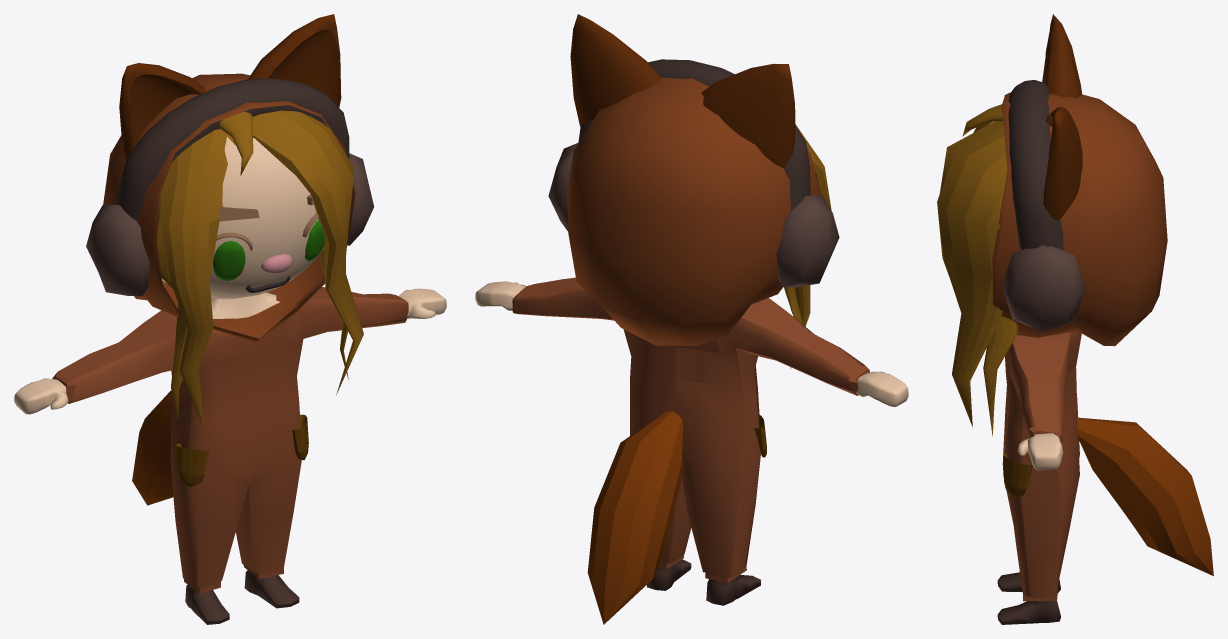
The model's file is NillieZel.fbx.
3 views of the same model, side by side, from view 1: azimuth 30°, elevation 25°; view 2: azimuth 150°, elevation 25°; view 3: azimuth 270°, elevation 25° (orthographic). The views are drawn at different scales.
Visible parts, largest first — view 1: NillieZel; view 2: NillieZel; view 3: NillieZel.
Boxes of the visible parts, box(x1,y1,x2,y2) form: NillieZel: box(14, 14, 446, 624); NillieZel: box(475, 14, 908, 624); NillieZel: box(937, 14, 1213, 624).
Size of the model in its own units: 1.34 by 1.67 by 0.7744.
